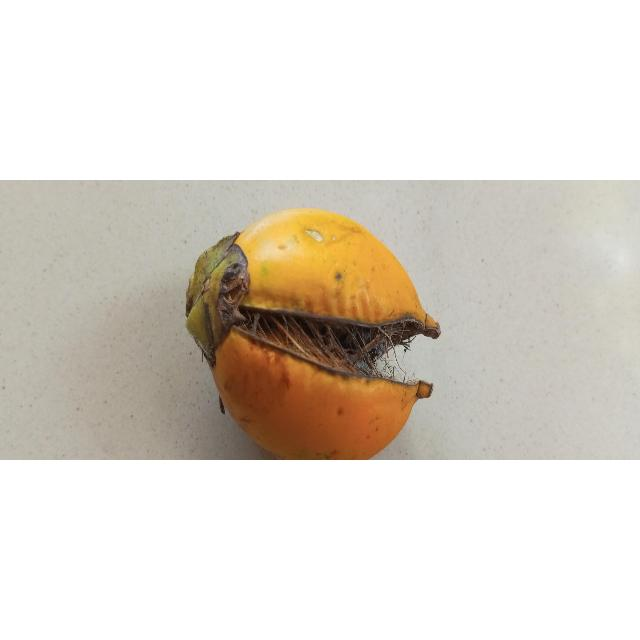damaged: (186, 208, 440, 461)
